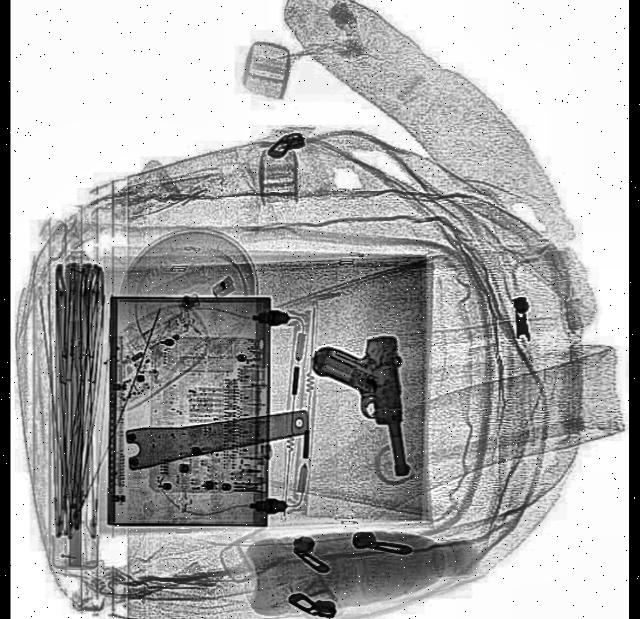Gun: (312, 332, 414, 488)
